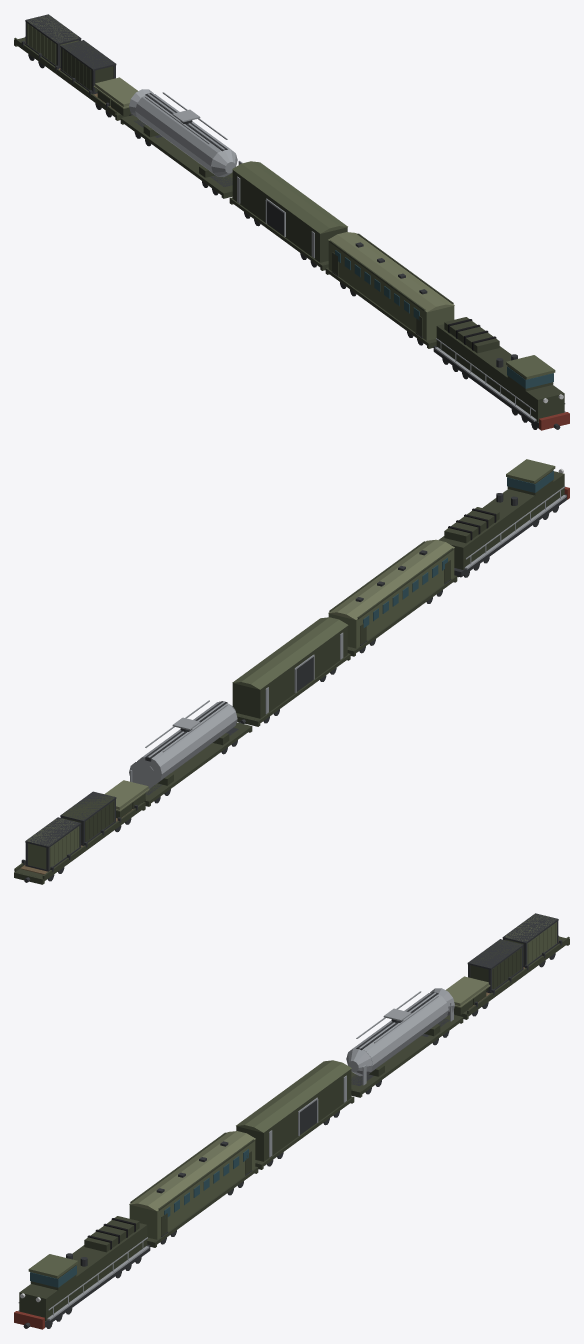
Rendered from Unit_MilitaryTrain.obj.
3 renders of one model, top to bottom at view 1: azimuth 30°, elevation 25°; view 2: azimuth 150°, elevation 25°; view 3: azimuth 330°, elevation 25°, orthographic.
Bounding box in the file's own units: 3.54 × 5.21 × 99.88.
